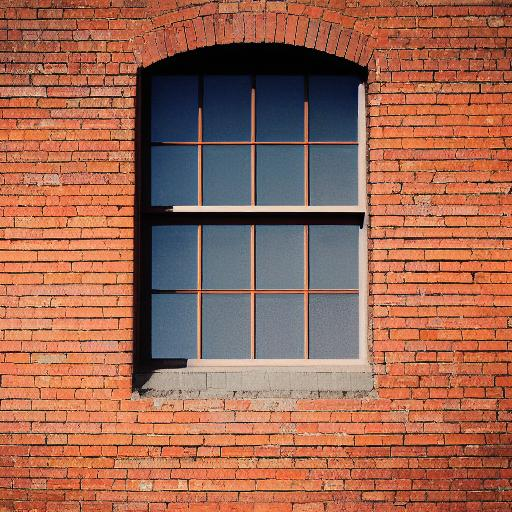Window: (129, 13, 382, 404)
